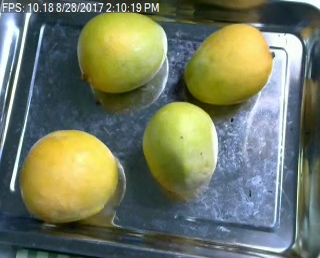Mango: (19, 128, 117, 222), (78, 8, 167, 96), (182, 25, 275, 102), (141, 102, 218, 189)
